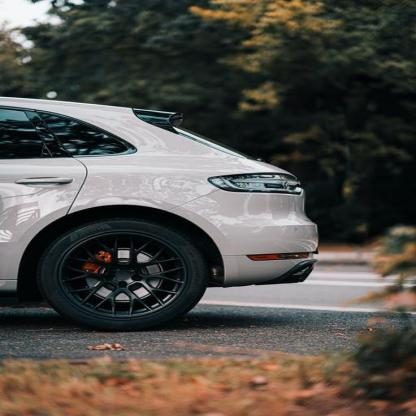Tire: (32, 216, 213, 332)
